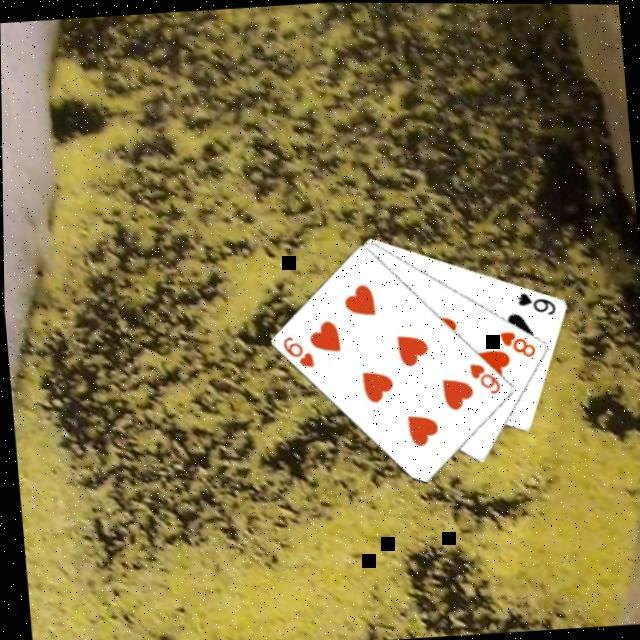6H: (462, 356, 500, 396), (276, 329, 314, 369)
6S: (511, 284, 556, 316)
8H: (494, 323, 536, 358)
